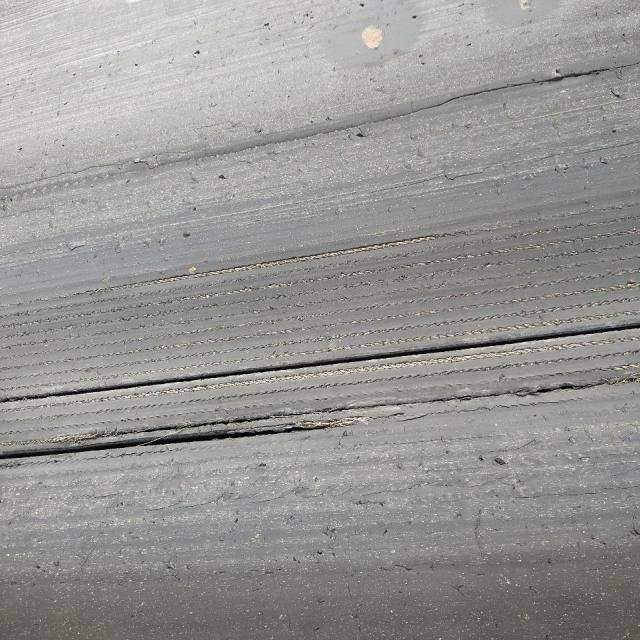Tear: (0, 313, 639, 407), (83, 369, 636, 439), (0, 417, 350, 467), (411, 54, 639, 115)
Wear: (0, 194, 640, 403)
